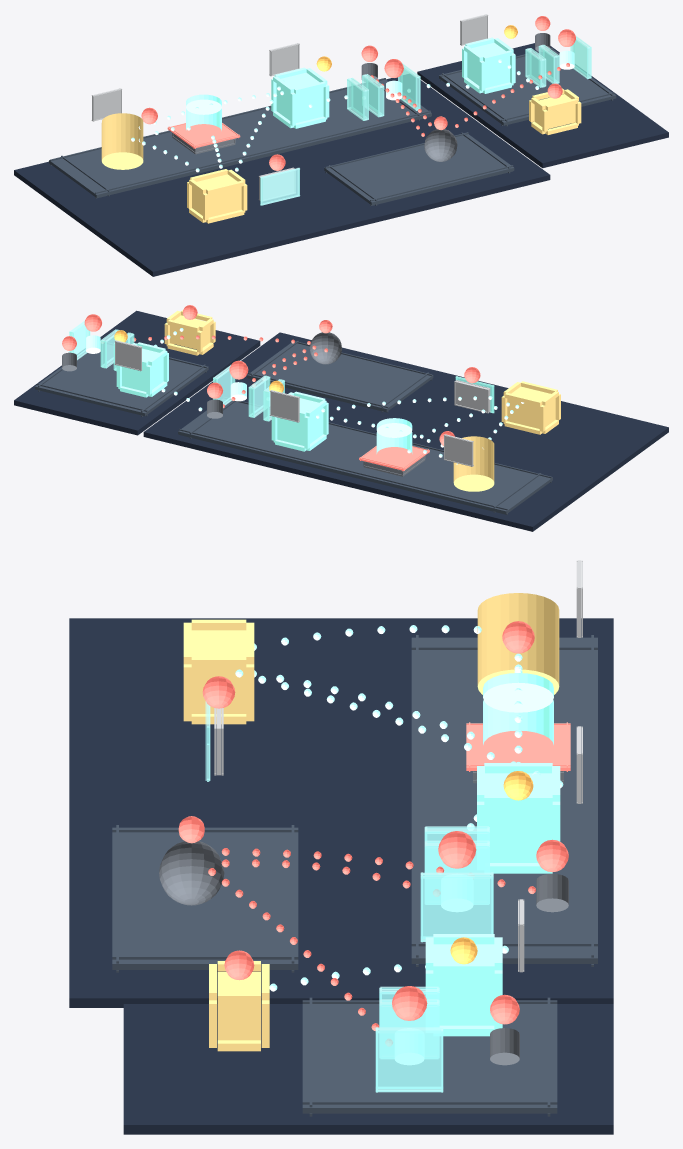
File: cks-cluster-hardening.glb
3 renders of one model, top to bottom at view 1: azimuth 30°, elevation 25°; view 2: azimuth 150°, elevation 25°; view 3: azimuth 270°, elevation 25°, orthographic. The views are drawn at different scales.
Parts seen in each view (by area): view 1: ch-floor, cp-node, w1-floor, pod-network, w1-node, kubelet, kube-bench, w1-kubelet, kube-apiserver, w1-kube-bench, sim-bench-pass, sim-etcd-open (+13 smaller); view 2: ch-floor, cp-node, w1-floor, pod-network, w1-node, kube-bench, kubelet, w1-kubelet, w1-kube-bench, kube-apiserver, etcd-db, sim-etcd-open (+10 smaller); view 3: ch-floor, w1-floor, cp-node, pod-network, w1-node, kubelet, kube-bench, w1-kubelet, kube-apiserver, w1-kube-bench, sim-kubelet-denied, sim-w1-kubelet-denied (+16 smaller).
Part boxes in pixels (x1,y1,x2,y2): ch-floor: [14, 74, 550, 276]; cp-node: [49, 78, 431, 198]; w1-floor: [417, 43, 668, 168]; pod-network: [324, 132, 514, 205]; w1-node: [439, 48, 616, 126]; kubelet: [271, 67, 329, 128]; kube-bench: [187, 169, 247, 223]; w1-kubelet: [462, 37, 515, 93]; kube-apiserver: [101, 113, 143, 169]; w1-kube-bench: [529, 88, 581, 134]; sim-bench-pass: [260, 167, 300, 205]; sim-etcd-open: [167, 123, 240, 148]; ch-floor: [143, 332, 668, 531]; cp-node: [178, 397, 552, 514]; w1-floor: [14, 310, 260, 435]; pod-network: [247, 341, 433, 412]; w1-node: [35, 339, 208, 416]; kube-bench: [501, 381, 560, 434]; kubelet: [271, 391, 328, 451]; w1-kubelet: [116, 342, 168, 397]; w1-kube-bench: [164, 310, 215, 355]; kube-apiserver: [453, 436, 494, 491]; etcd-db: [376, 418, 412, 453]; sim-etcd-open: [359, 446, 429, 471]; ch-floor: [69, 618, 613, 1007]; w1-floor: [123, 1004, 613, 1134]; cp-node: [411, 635, 597, 966]; pod-network: [112, 825, 298, 972]; w1-node: [302, 997, 557, 1116]; kubelet: [477, 763, 560, 873]; kube-bench: [183, 619, 254, 724]; w1-kubelet: [425, 934, 502, 1036]; kube-apiserver: [477, 593, 559, 694]; w1-kube-bench: [209, 961, 269, 1051]; sim-kubelet-denied: [420, 872, 493, 942]; sim-w1-kubelet-denied: [375, 1027, 443, 1092].
Size of what is drawn, in the model's own units: 8.8 by 1.12 by 4.
